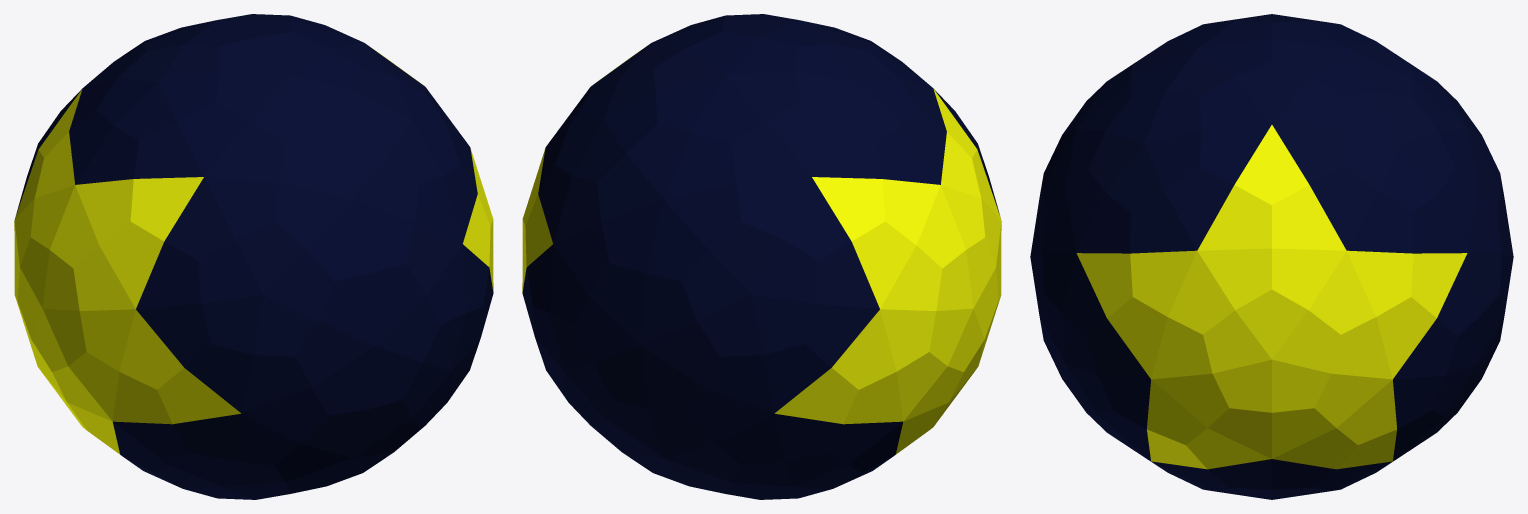
File: star.glb
The picture shows the model from 3 angles, left to right: view 1: azimuth 30°, elevation 25°; view 2: azimuth 150°, elevation 25°; view 3: azimuth 270°, elevation 25°; orthographic projection.
Parts seen in each view (by area): view 1: Star; view 2: Star; view 3: Star.
Boxes of the visible parts, bbox=[...] form: Star: bbox=[14, 14, 493, 499]; Star: bbox=[522, 14, 1001, 499]; Star: bbox=[1030, 14, 1513, 499].
Size of the model in its own units: 1.86 by 1.85 by 1.85.
